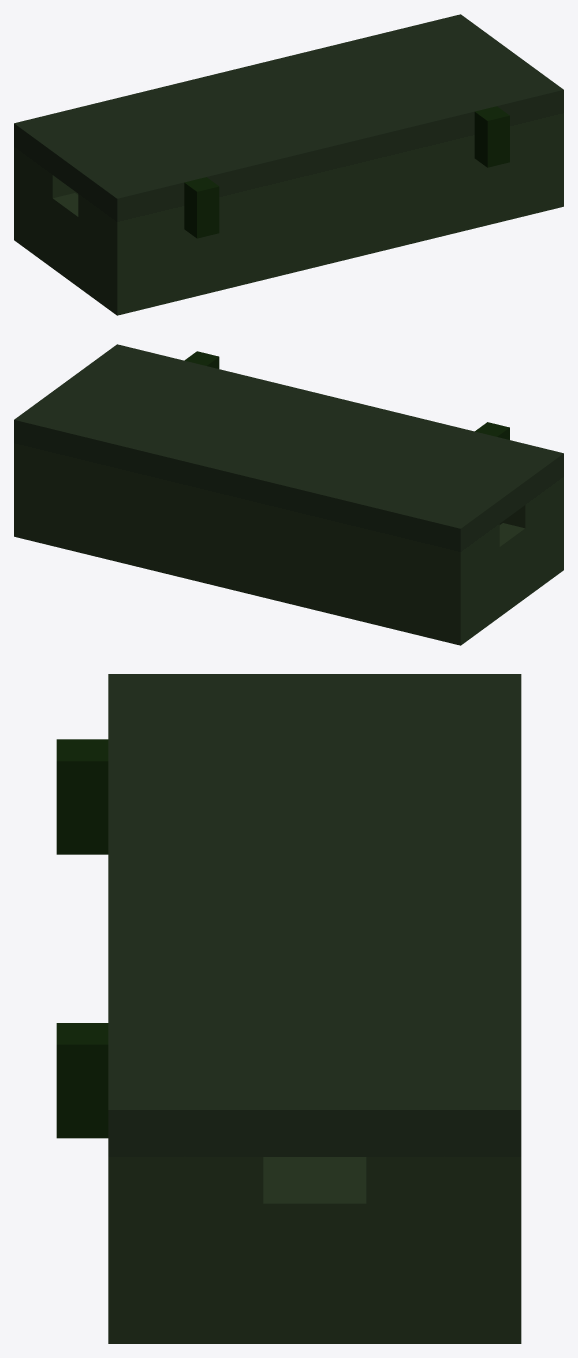
Rendered from weapon_box.dae.
The picture shows the model from 3 angles, top to bottom: view 1: azimuth 30°, elevation 25°; view 2: azimuth 150°, elevation 25°; view 3: azimuth 270°, elevation 25°; orthographic projection. The views are drawn at different scales.
Parts seen in each view (by area): view 1: weapon_box; view 2: weapon_box; view 3: weapon_box.
Part boxes in pixels (bbox=[...]): weapon_box: bbox=[14, 14, 563, 315]; weapon_box: bbox=[14, 344, 563, 645]; weapon_box: bbox=[56, 674, 521, 1343].
Size of the model in its own units: 2 by 0.5 by 0.9.
Materials: 1 (1 with a texture image).
